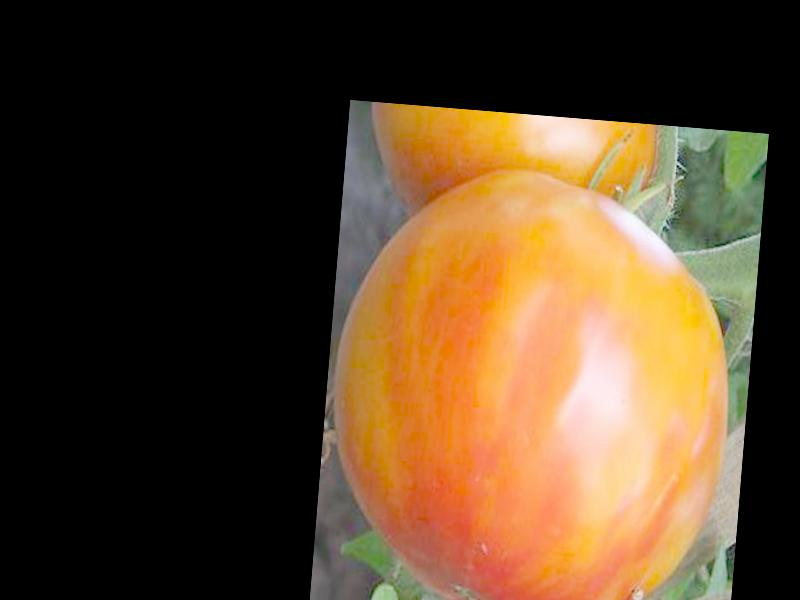Tomato: (317, 162, 745, 600)
